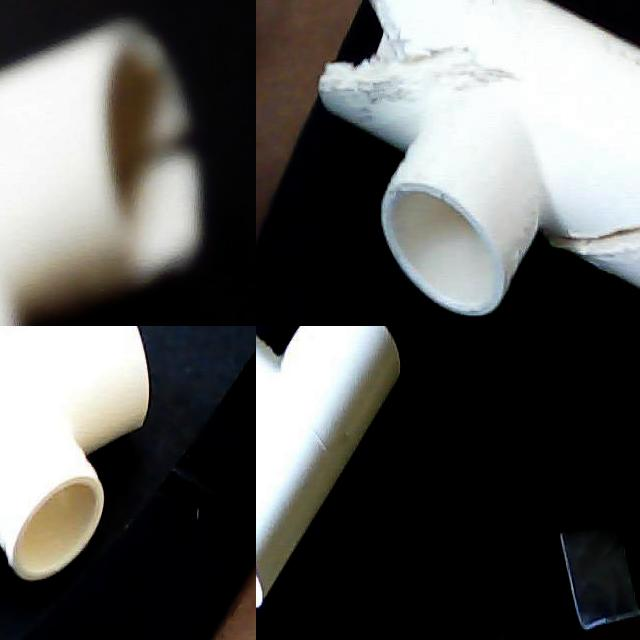Defective: (320, 0, 461, 111), (500, 148, 640, 255), (574, 24, 640, 147), (123, 118, 202, 192)
T Joint: (317, 0, 640, 320), (0, 17, 207, 326), (256, 326, 401, 610)
